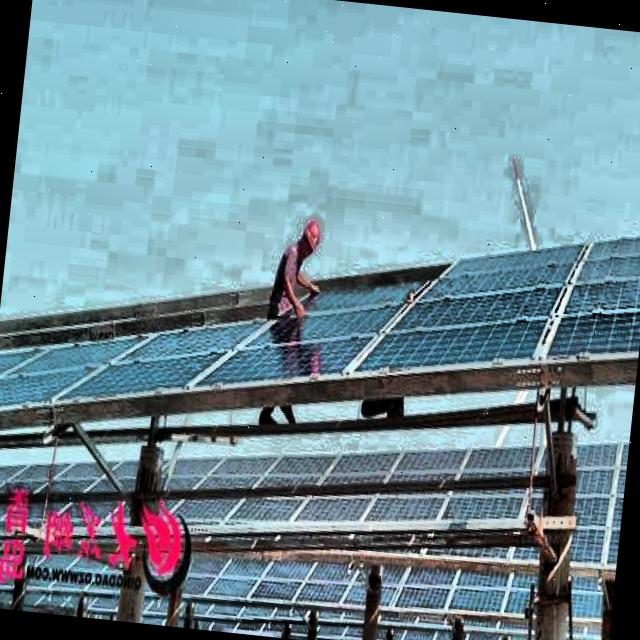helmet: (296, 213, 326, 264)
